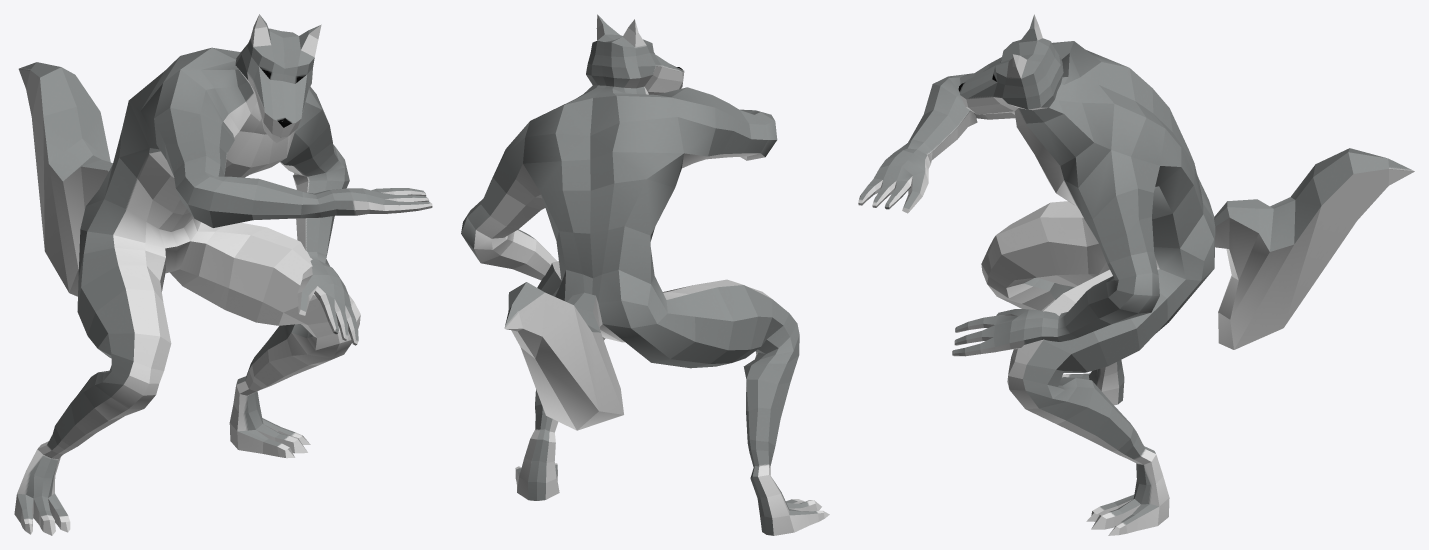
Rendered from WolfAttack(58).obj.
3 views of the same model, side by side, from view 1: azimuth 30°, elevation 25°; view 2: azimuth 150°, elevation 25°; view 3: azimuth 270°, elevation 25° (orthographic). The views are drawn at different scales.
Parts seen in each view (by area): view 1: Box001; view 2: Box001; view 3: Box001.
Boxes of the visible parts, x1,y1,x2,y2 form: Box001: (14,14,432,535); Box001: (461,14,829,535); Box001: (858,14,1414,535).
Size of the model in its own units: 92.9 by 120 by 127.
